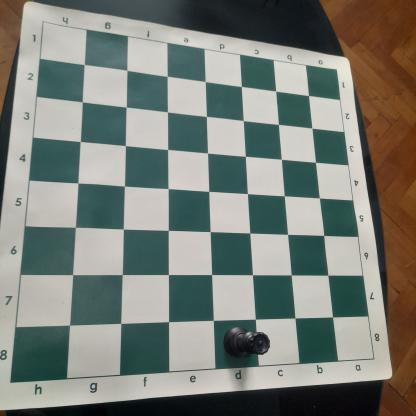black-queen: (222, 324, 270, 362)
